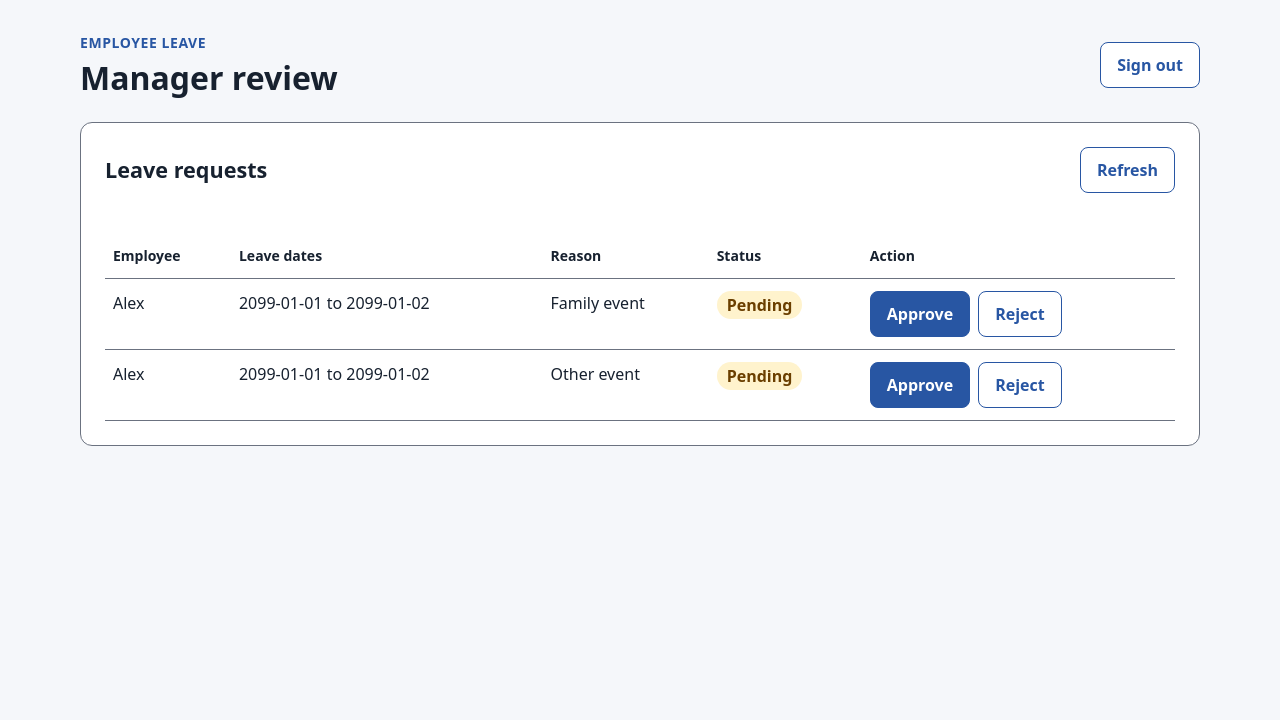
Test: ManagerDashboard decisions › does not claim a stale status refreshed when the follow-up list load fails
Click the button "Approve" in the row of "Family event". click: (920, 314)
box: [870, 291, 970, 337]
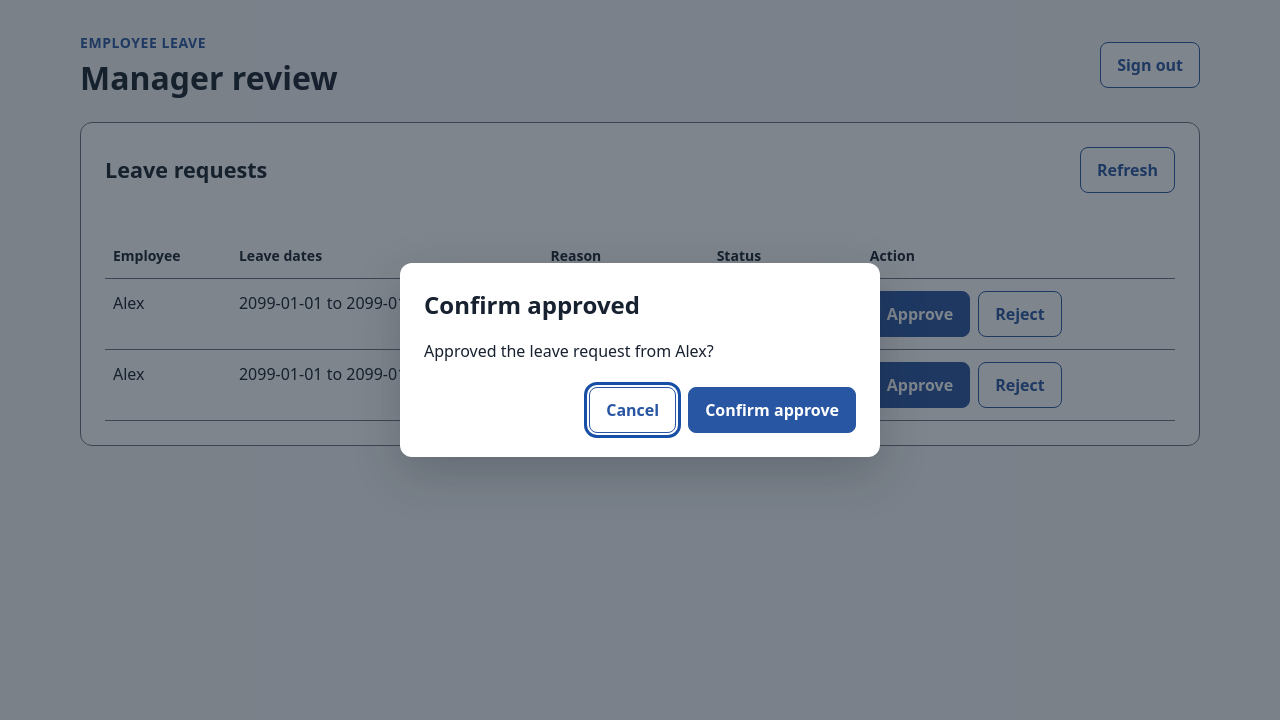
Click the button "Confirm approve". click: (772, 410)
box: [688, 387, 856, 433]
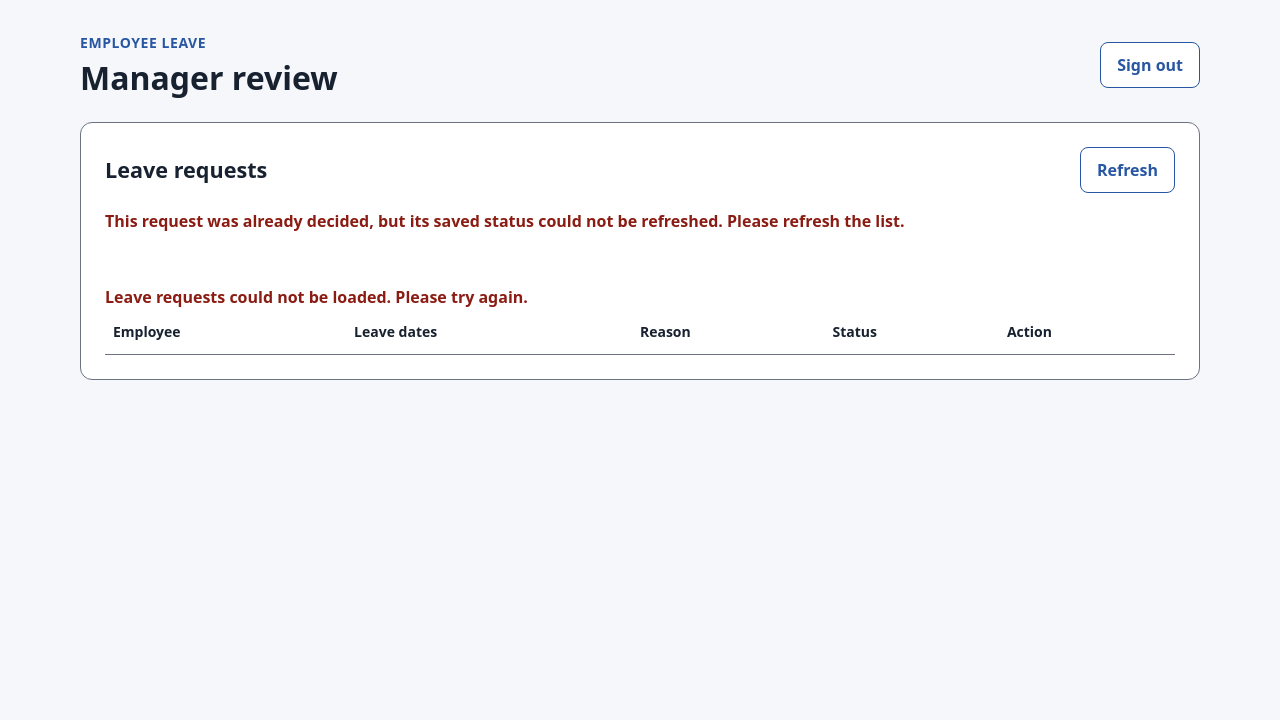
Expected: the text "Family event" is gone
Expected: the text "Other event" is gone
Expected: the button "Approve" is gone
